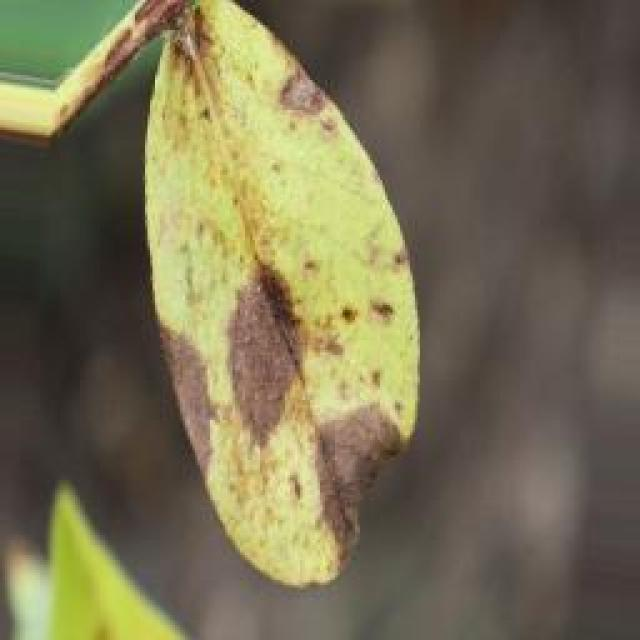Yellowish: (82, 0, 458, 568)
